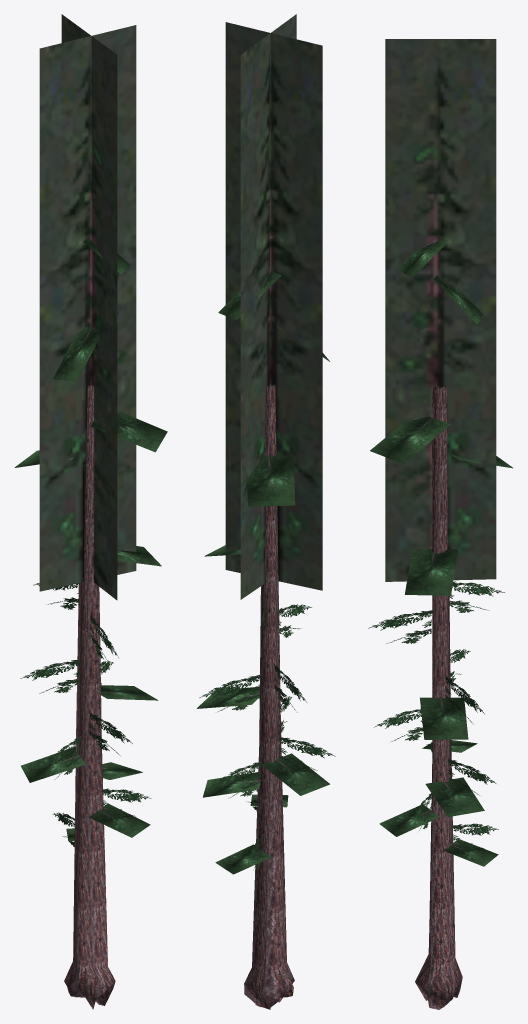
File: frst_conf_redwood_giant_l1.fbx
The picture shows the model from 3 angles, left to right: view 1: azimuth 30°, elevation 25°; view 2: azimuth 150°, elevation 25°; view 3: azimuth 270°, elevation 25°; orthographic projection.
Parts seen in each view (by area): view 1: mesh_node; view 2: mesh_node; view 3: mesh_node.
Part boxes in pixels (x1,y1,x2,y2): mesh_node: [14, 14, 167, 1009]; mesh_node: [197, 14, 335, 1009]; mesh_node: [368, 39, 512, 1009].
Bounding box in the file's own units: 25.18 × 192 × 26.44.
